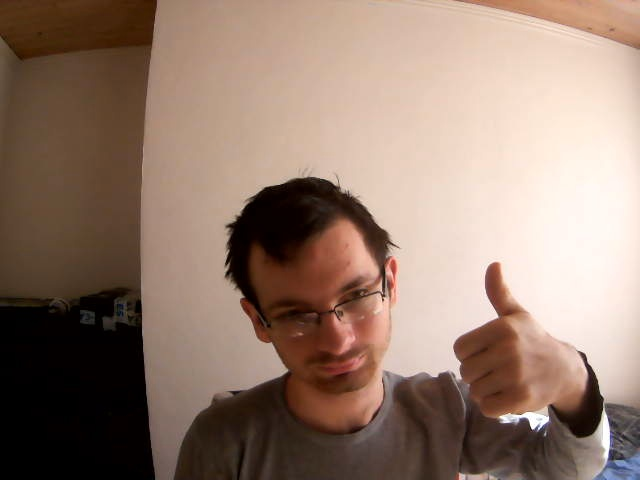nice: (453, 260, 559, 420)
